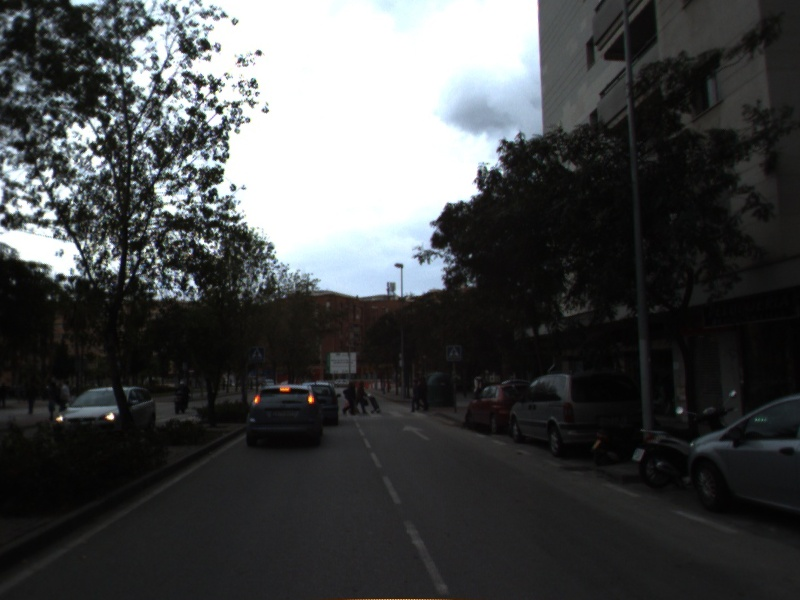STRAIGHT: (400, 422, 434, 443)
